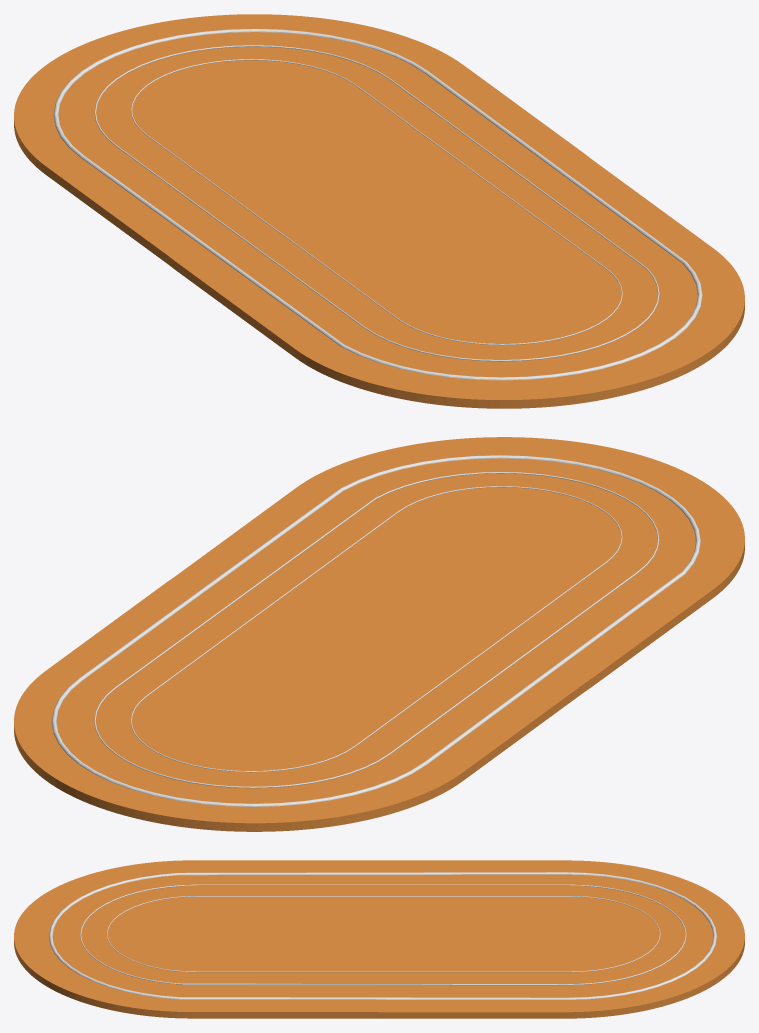
File: jogoEnergy.fbx
3 views of the same model, one above another, from view 1: azimuth 30°, elevation 25°; view 2: azimuth 150°, elevation 25°; view 3: azimuth 270°, elevation 25° (orthographic). The views are drawn at different scales.
Visible parts, largest first — view 1: Cube, Torus.002, Torus.004, Torus.003, Torus.001; view 2: Cube, Torus.002, Torus.004, Torus.003, Torus.001; view 3: Cube, Torus.002, Torus.004, Torus.003, Torus.001, Torus.005.
Part boxes in pixels (x1=…): Cube: x1=14, y1=14, x2=744, y2=408; Torus.002: x1=53, y1=29, x2=702, y2=380; Torus.004: x1=116, y1=79, x2=659, y2=361; Torus.003: x1=147, y1=84, x2=622, y2=345; Torus.001: x1=94, y1=45, x2=389, y2=145; Cube: x1=14, y1=437, x2=744, y2=831; Torus.002: x1=51, y1=455, x2=700, y2=806; Torus.004: x1=116, y1=472, x2=659, y2=754; Torus.003: x1=147, y1=486, x2=622, y2=746; Torus.001: x1=94, y1=687, x2=389, y2=788; Cube: x1=14, y1=860, x2=744, y2=1018; Torus.002: x1=49, y1=872, x2=716, y2=999; Torus.004: x1=80, y1=884, x2=568, y2=985; Torus.003: x1=106, y1=896, x2=570, y2=972; Torus.001: x1=568, y1=884, x2=686, y2=985; Torus.005: x1=570, y1=896, x2=660, y2=972.
Bounding box in the file's own units: 214 × 5.94 × 436.
